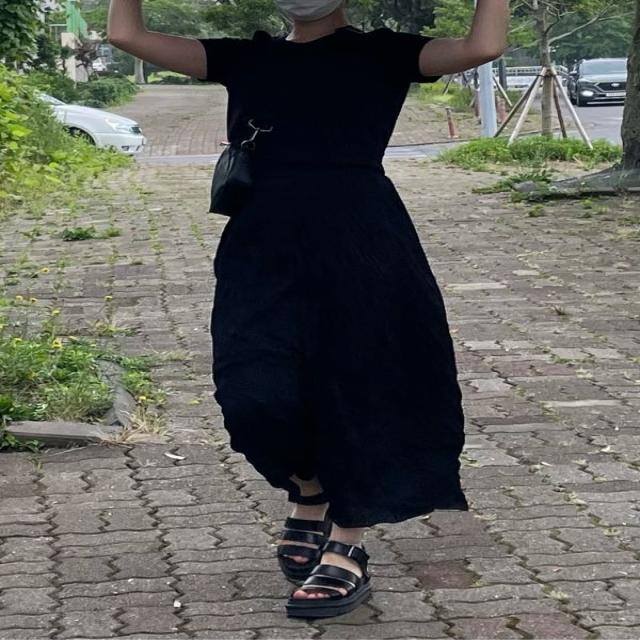shortsleeve: (197, 24, 447, 178)
skirt: (211, 174, 469, 530)
